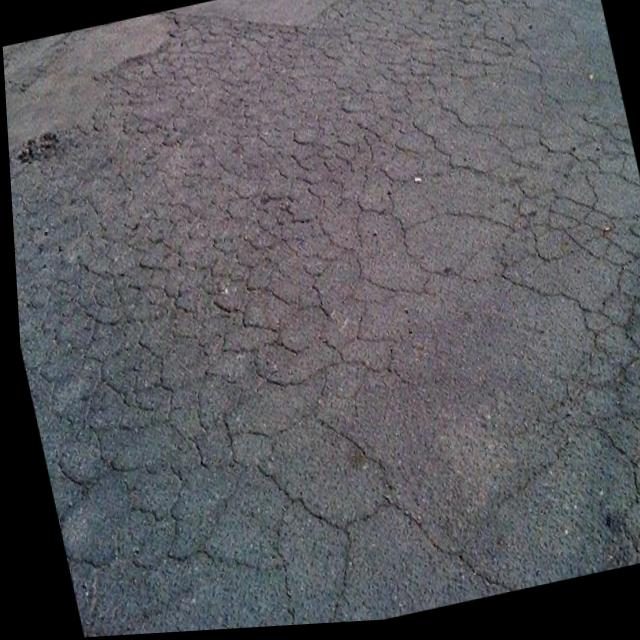Crack: (71, 382, 224, 552), (43, 193, 164, 383), (133, 170, 255, 335), (236, 144, 345, 319), (571, 293, 640, 556), (318, 46, 420, 186)
